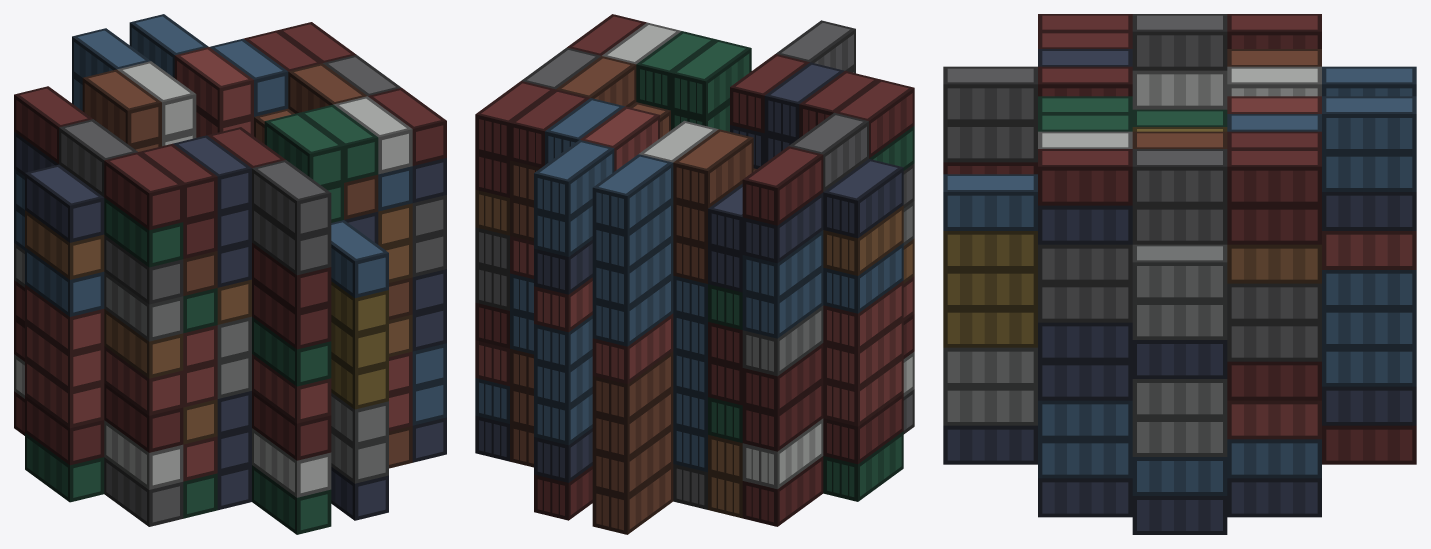
The model's file is ultra-rows.glb.
3 renders of one model, left to right at view 1: azimuth 30°, elevation 25°; view 2: azimuth 150°, elevation 25°; view 3: azimuth 270°, elevation 25°, orthographic. The views are drawn at different scales.
Parts seen in each view (by area): view 1: ultra-rows; view 2: ultra-rows; view 3: ultra-rows.
Boxes of the visible parts, x1,y1,x2,y2 form: ultra-rows: (14,14,446,534); ultra-rows: (475,14,914,534); ultra-rows: (943,14,1416,534).
Size of the model in its own units: 62 by 54 by 66.
